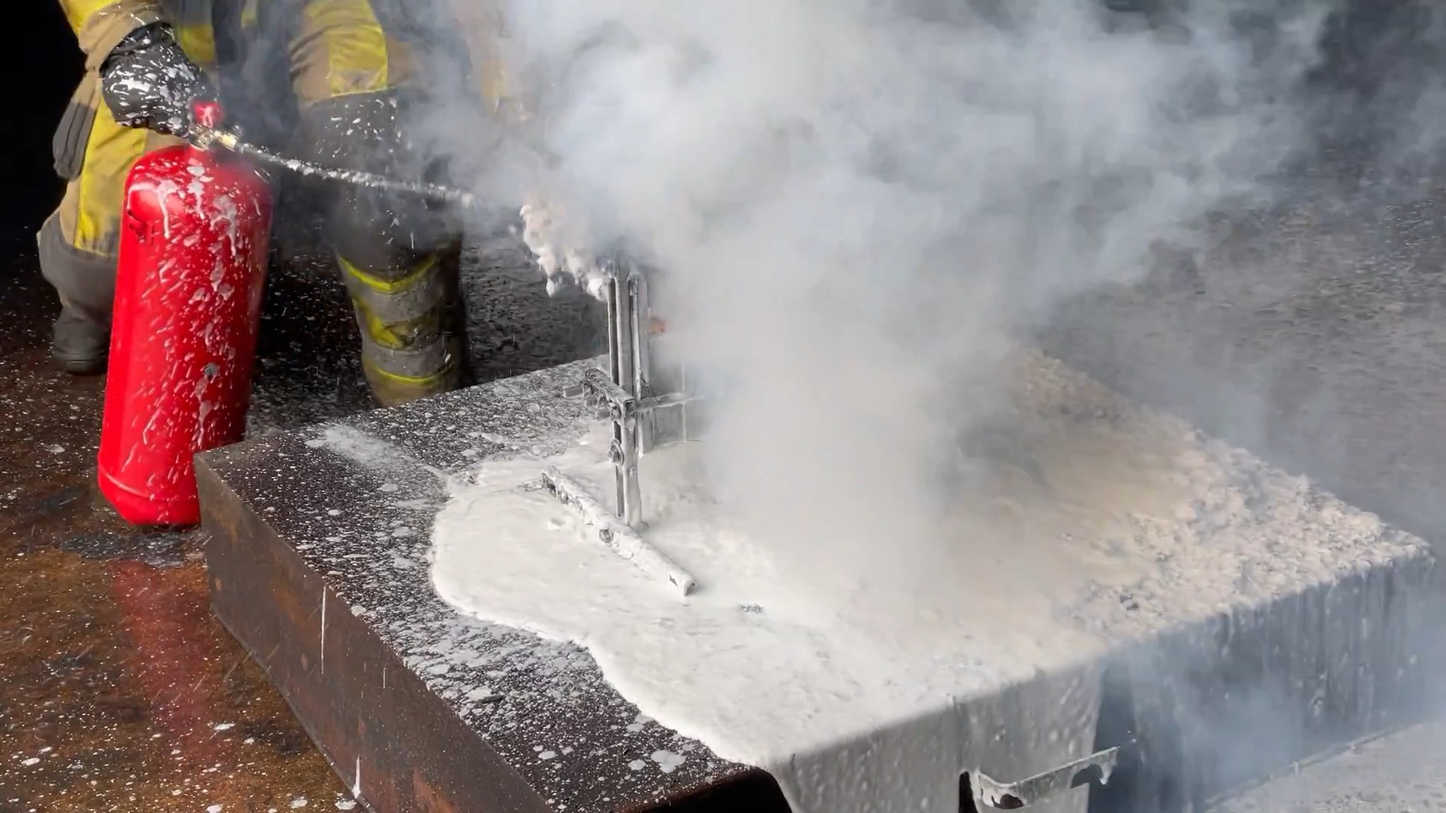smoke: (518, 23, 1393, 713)
